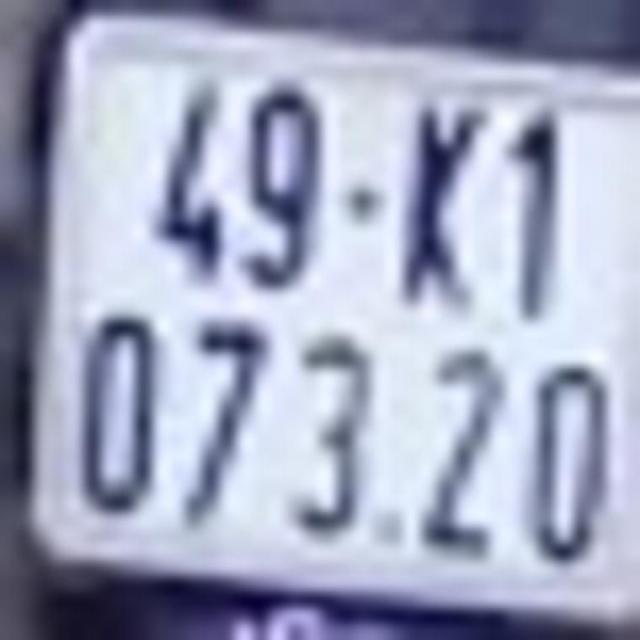0: (533, 345, 611, 569), (75, 303, 157, 515)
1: (506, 102, 568, 326)
2: (418, 346, 507, 560)
3: (280, 314, 372, 543)
4: (149, 77, 232, 286)
7: (177, 315, 275, 535)
9: (245, 80, 324, 299)
K: (396, 78, 481, 318)
